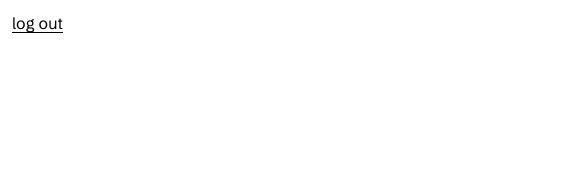
LogoutButton › F-20, F-107: a failed logout keeps the user signed in, reconnects the socket as resumed and says so
Click the button "log out" at (37, 24), box left=12, top=12, right=63, bottom=36
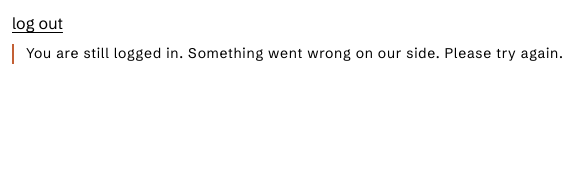
Now the message reads "You are still logged in. Something went wrong on our side. Please try again.", box left=26, top=44, right=564, bottom=62
